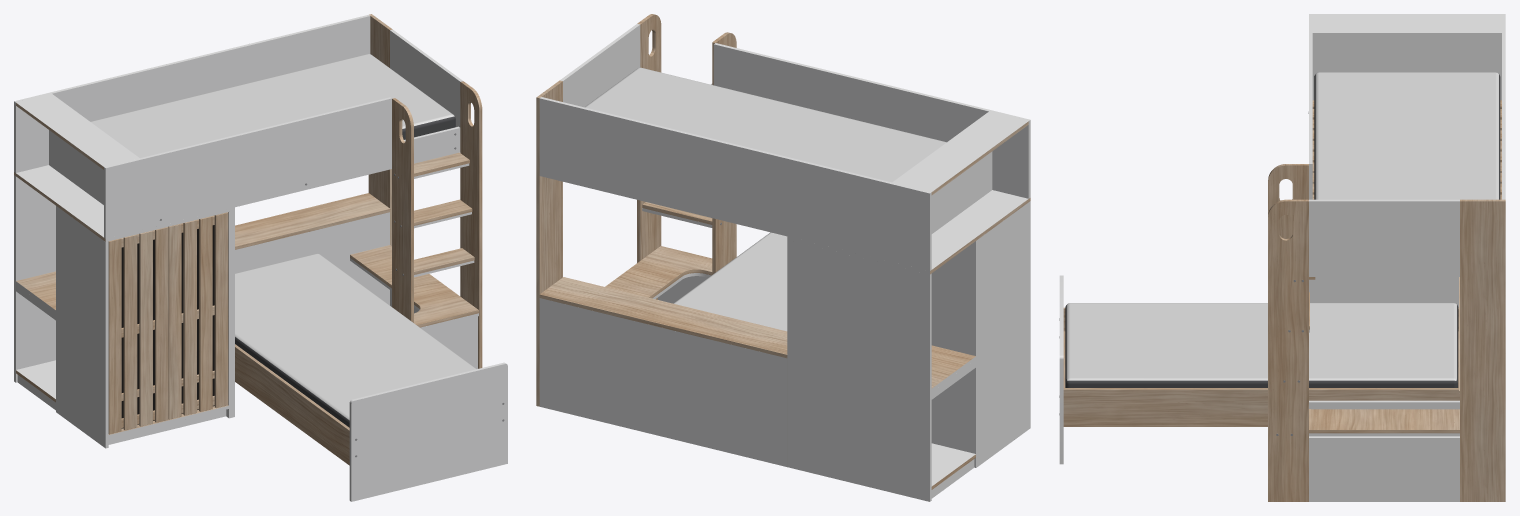
Rendered from LBunkBed.glb.
3 renders of one model, left to right at view 1: azimuth 30°, elevation 25°; view 2: azimuth 150°, elevation 25°; view 3: azimuth 270°, elevation 25°, orthographic. The views are drawn at different scales.
Visible parts, largest first — view 1: SM_LBunkBed_Frame, SM_LBunkBed_Mattress_Lower, SM_LBunkBed_Mattress_Upper, SM_LBunkBed_Door_L, SM_LBunkBed_Door_R; view 2: SM_LBunkBed_Frame, SM_LBunkBed_Mattress_Upper, SM_LBunkBed_Mattress_Lower; view 3: SM_LBunkBed_Frame, SM_LBunkBed_Mattress_Lower, SM_LBunkBed_Mattress_Upper.
Boxes of the visible parts, x1,y1,x2,y2 form: SM_LBunkBed_Frame: (14,14,507,501); SM_LBunkBed_Mattress_Lower: (235,253,476,427); SM_LBunkBed_Mattress_Upper: (90,54,455,157); SM_LBunkBed_Door_L: (108,227,168,434); SM_LBunkBed_Door_R: (168,212,228,419); SM_LBunkBed_Frame: (536,14,1030,501); SM_LBunkBed_Mattress_Upper: (585,67,946,182); SM_LBunkBed_Mattress_Lower: (673,232,787,331); SM_LBunkBed_Frame: (1059,14,1505,501); SM_LBunkBed_Mattress_Lower: (1065,303,1458,387); SM_LBunkBed_Mattress_Upper: (1314,72,1500,199).
Bounding box in the file's own units: 2.14 × 1.6 × 2.16.
Materials: 7 (1 with a texture image).
